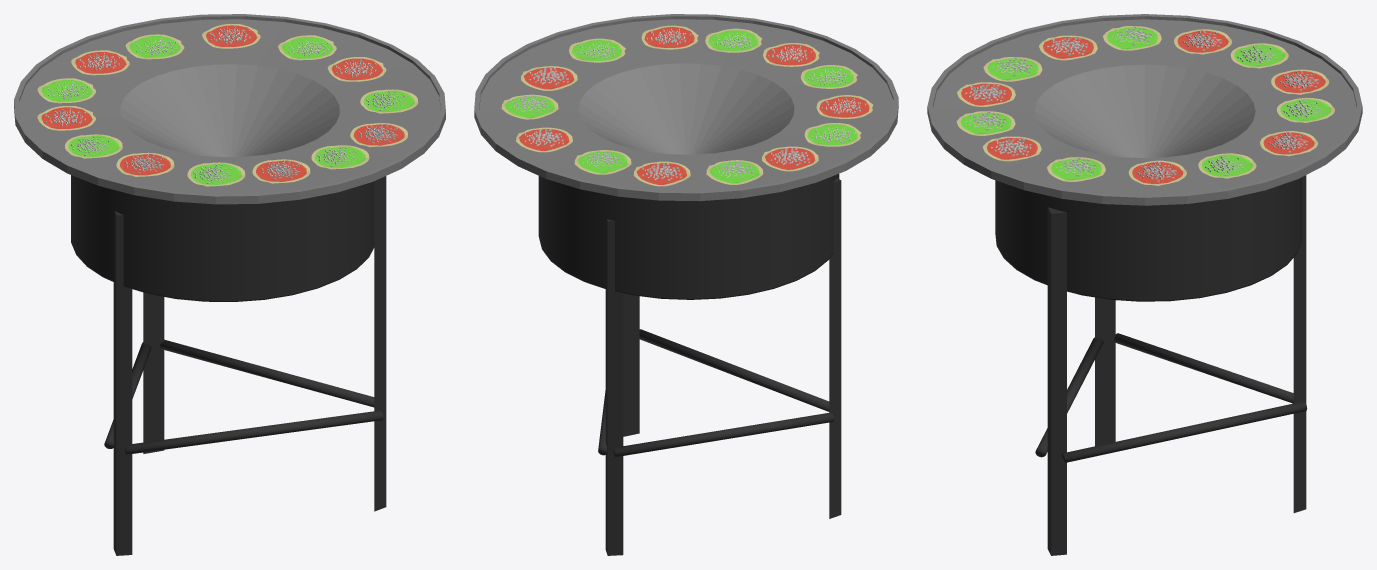
Rendered from comal.glb.
The picture shows the model from 3 angles, left to right: view 1: azimuth 30°, elevation 25°; view 2: azimuth 150°, elevation 25°; view 3: azimuth 270°, elevation 25°; orthographic projection. The views are drawn at different scales.
Parts seen in each view (by area): view 1: Cylinder.004, Cylinder, Cube.001, Cube.002, Cube.003, Cylinder.003, Cylinder.002, Circle.003, Circle.002, Circle.001, Circle.006, Circle (+10 smaller); view 2: Cylinder.004, Cylinder, Cube.003, Cube.001, Cube.002, Cylinder.001, Cylinder.003, Circle.009, Circle.008, Circle.007, Circle.004, Circle.012 (+9 smaller); view 3: Cylinder.004, Cylinder, Cube.002, Cube.003, Cube.001, Cylinder.002, Cylinder.001, Circle.008, Circle.012, Circle.007, Circle.010, Circle.009 (+10 smaller).
Part boxes in pixels (<box>): Cylinder.004: <box>14,14,445,204</box>; Cylinder: <box>71,175,374,301</box>; Cube.001: <box>113,211,132,555</box>; Cube.002: <box>374,176,386,511</box>; Cube.003: <box>143,292,164,453</box>; Cylinder.003: <box>125,410,383,454</box>; Cylinder.002: <box>159,339,374,407</box>; Circle.003: <box>125,34,184,59</box>; Circle.002: <box>71,50,129,75</box>; Circle.001: <box>37,78,95,103</box>; Circle.006: <box>327,57,386,81</box>; Circle: <box>37,106,95,130</box>; Cylinder.004: <box>474,14,898,201</box>; Cylinder: <box>538,174,839,299</box>; Cube.003: <box>605,219,623,555</box>; Cube.001: <box>829,178,841,518</box>; Cube.002: <box>623,293,639,436</box>; Cylinder.001: <box>613,412,833,457</box>; Cylinder.003: <box>639,329,829,411</box>; Circle.009: <box>705,28,762,52</box>; Circle.008: <box>641,25,698,49</box>; Circle.007: <box>569,38,625,62</box>; Circle.004: <box>516,127,572,152</box>; Circle.012: <box>816,95,873,118</box>; Cylinder.004: <box>927,14,1362,205</box>; Cylinder: <box>995,177,1302,301</box>; Cube.002: <box>1047,207,1066,555</box>; Cube.003: <box>1293,175,1306,512</box>; Cube.001: <box>1095,297,1115,446</box>; Cylinder.002: <box>1061,401,1307,462</box>; Cylinder.001: <box>1114,333,1293,403</box>; Circle.008: <box>982,136,1041,161</box>; Circle.012: <box>1039,35,1097,60</box>; Circle.007: <box>1047,157,1105,181</box>; Circle.010: <box>957,82,1015,106</box>; Circle.009: <box>956,111,1015,135</box>.
Bounding box in the file's own units: 2.99 × 3.06 × 2.99.
